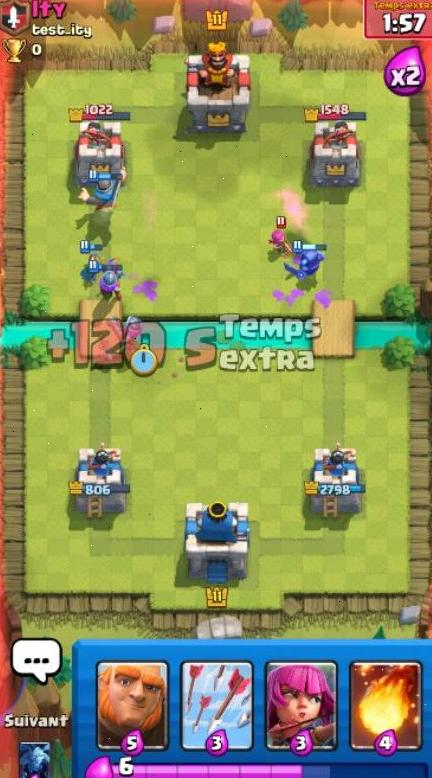enemy_archers: (266, 219, 291, 254)
player_archers: (77, 243, 104, 280)
player_knight: (74, 167, 131, 210)
player_mini_pekka: (283, 238, 330, 284)
player_musketeer: (110, 313, 147, 350), (93, 260, 126, 301)
